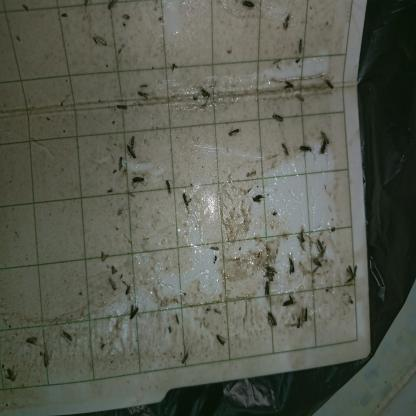prays_oleae: (208, 323, 227, 350), (341, 260, 360, 286), (227, 120, 246, 144), (177, 344, 196, 368), (56, 326, 76, 348), (4, 363, 22, 385), (160, 176, 174, 204), (286, 250, 298, 282), (128, 300, 140, 329), (39, 352, 54, 375), (134, 85, 152, 103), (263, 309, 278, 330), (295, 226, 308, 250), (180, 190, 195, 210), (23, 332, 40, 349), (298, 139, 314, 157), (291, 312, 303, 336), (250, 191, 265, 210), (124, 142, 140, 159), (130, 174, 147, 190), (281, 290, 296, 308), (200, 84, 214, 103), (115, 95, 129, 114), (280, 134, 290, 160), (268, 109, 284, 125), (280, 74, 294, 92), (114, 154, 126, 174), (303, 300, 312, 324), (271, 205, 281, 226), (313, 253, 323, 274), (107, 275, 118, 294), (321, 125, 333, 142), (294, 88, 306, 103), (294, 37, 305, 53), (280, 17, 292, 31), (315, 235, 324, 253), (318, 138, 327, 156), (238, 2, 258, 10), (265, 264, 275, 280), (324, 81, 336, 93), (127, 133, 137, 147), (263, 281, 270, 300)
